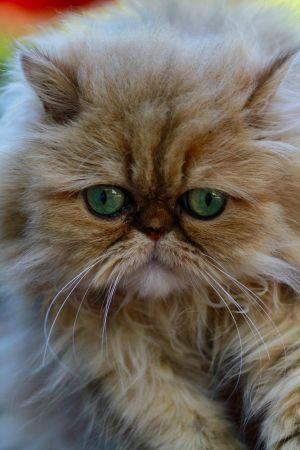persian: (1, 9, 300, 323)
